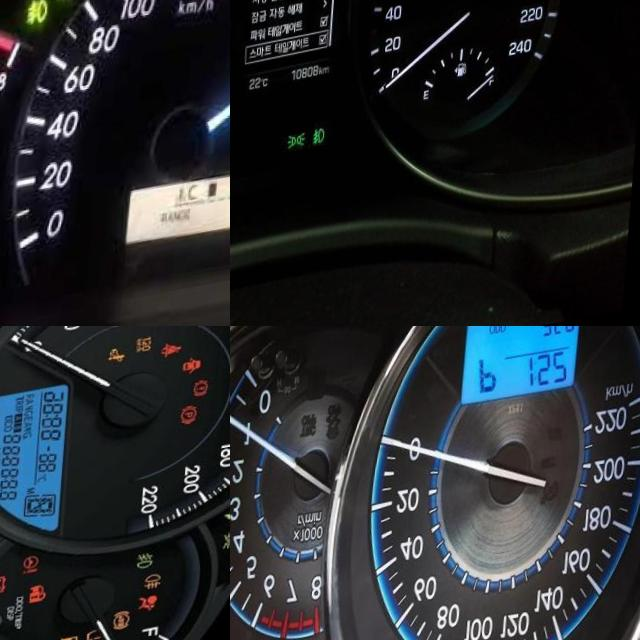Electronic Power Steering: (31, 563, 47, 584)
FrontFogLight: (317, 138, 333, 158)
Seat Belt: (166, 353, 187, 370)
SideLamp: (294, 143, 312, 160)
